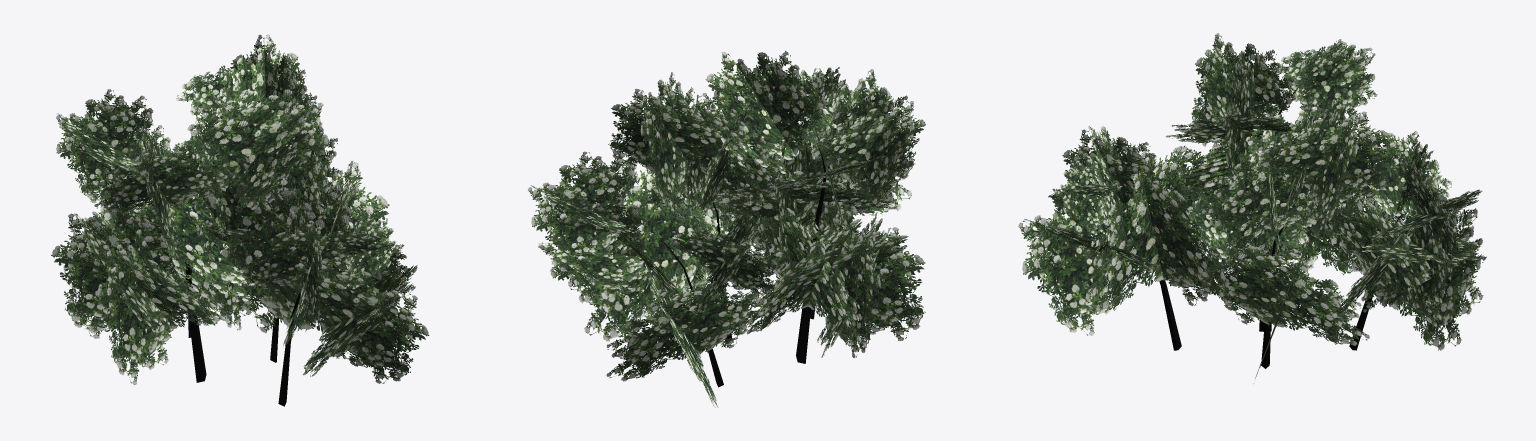
The model's file is rosea_lod0.FBX.
The picture shows the model from 3 angles, left to right: view 1: azimuth 30°, elevation 25°; view 2: azimuth 150°, elevation 25°; view 3: azimuth 270°, elevation 25°; orthographic projection. The views are drawn at different scales.
Parts seen in each view (by area): view 1: roseA; view 2: roseA; view 3: roseA.
Part boxes in pixels (x1,y1,x2,y2): roseA: [51, 34, 429, 406]; roseA: [527, 50, 925, 407]; roseA: [1018, 33, 1486, 383].
Bounding box in the file's own units: 58760 × 51979 × 76099.
